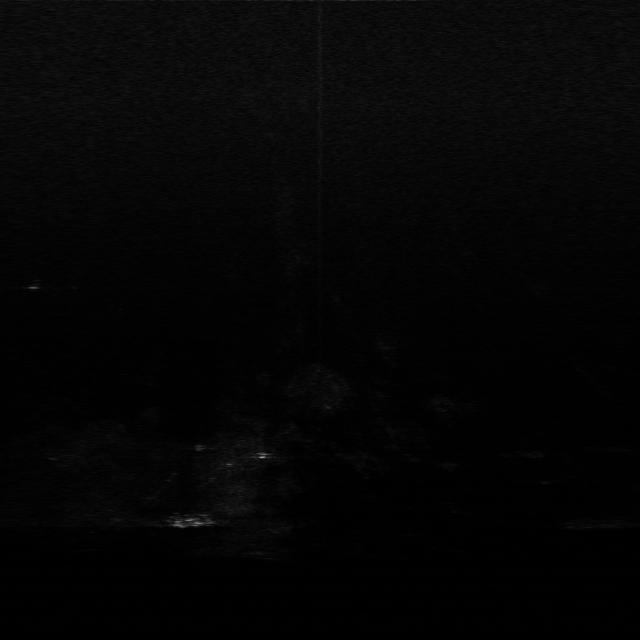rov: (171, 514, 213, 532)
